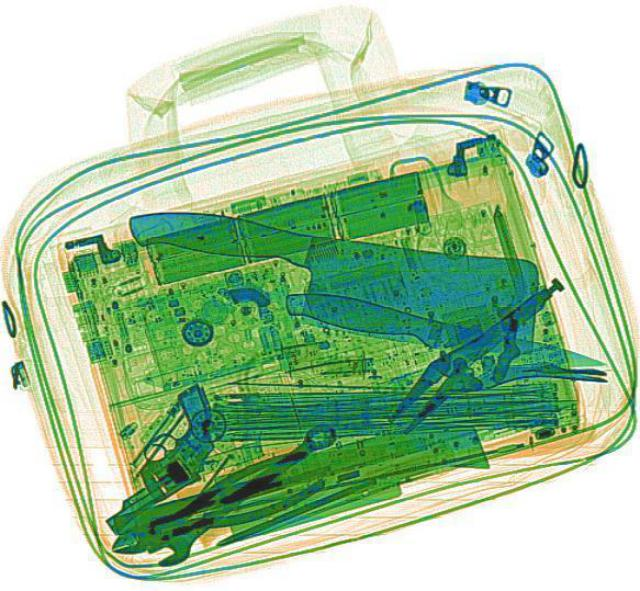Gun: (58, 379, 254, 538)
Knife: (112, 198, 550, 357), (280, 283, 606, 378)
Pliers: (94, 442, 330, 575)
Wrench: (133, 414, 347, 574)
